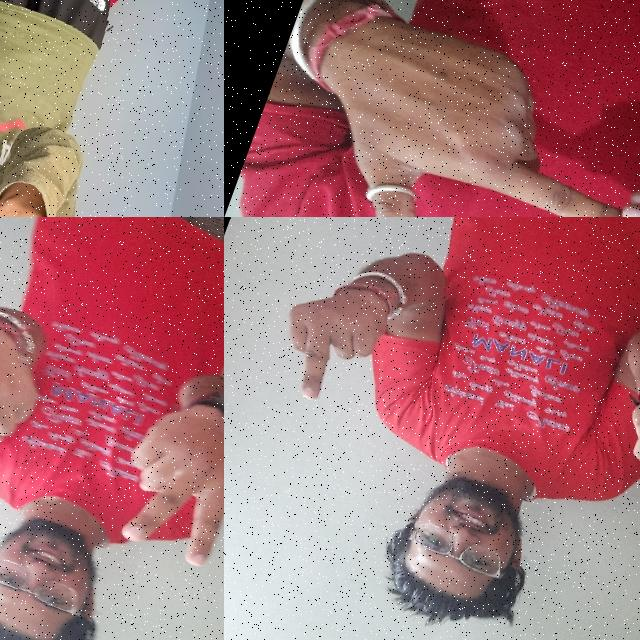Five Fathers: (285, 0, 640, 217)
Middle Finger: (254, 250, 410, 427), (590, 365, 640, 546)
Reversed Victory: (91, 374, 224, 579), (0, 289, 68, 520)
